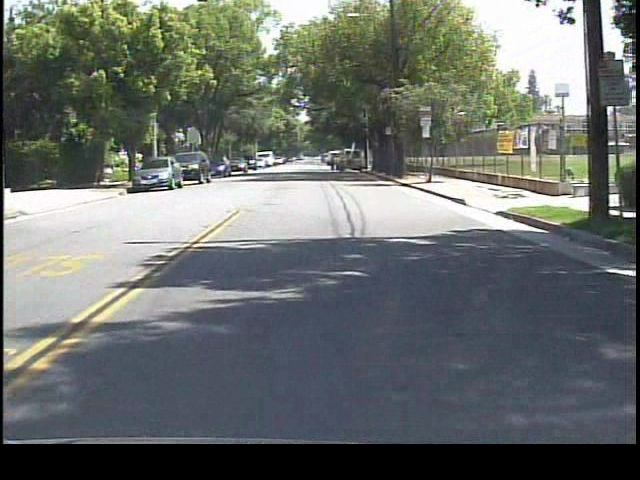person: (324, 151, 340, 176)
